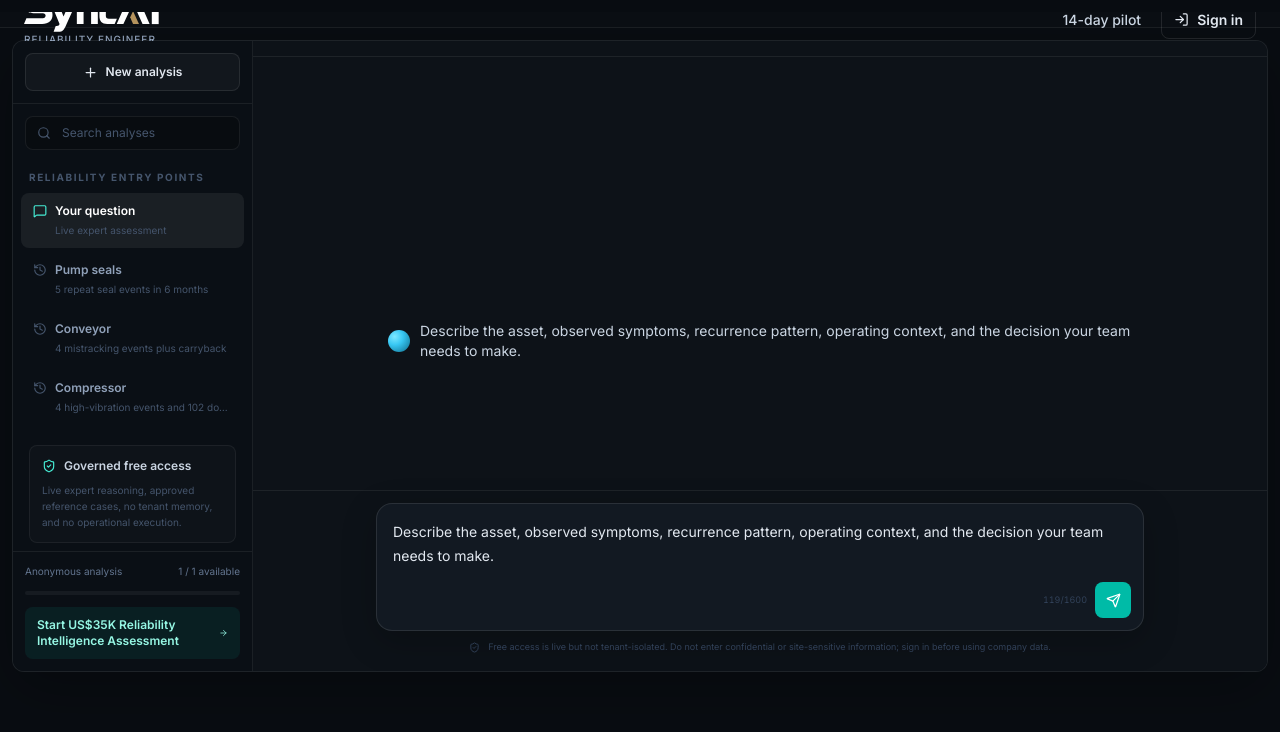
it: ReliabilityEngineerPage › streams the governed analysis and records the completed public run
Click the button named "send message": click(1113, 600) [1095,582,1131,618]
Wait 3500 ms
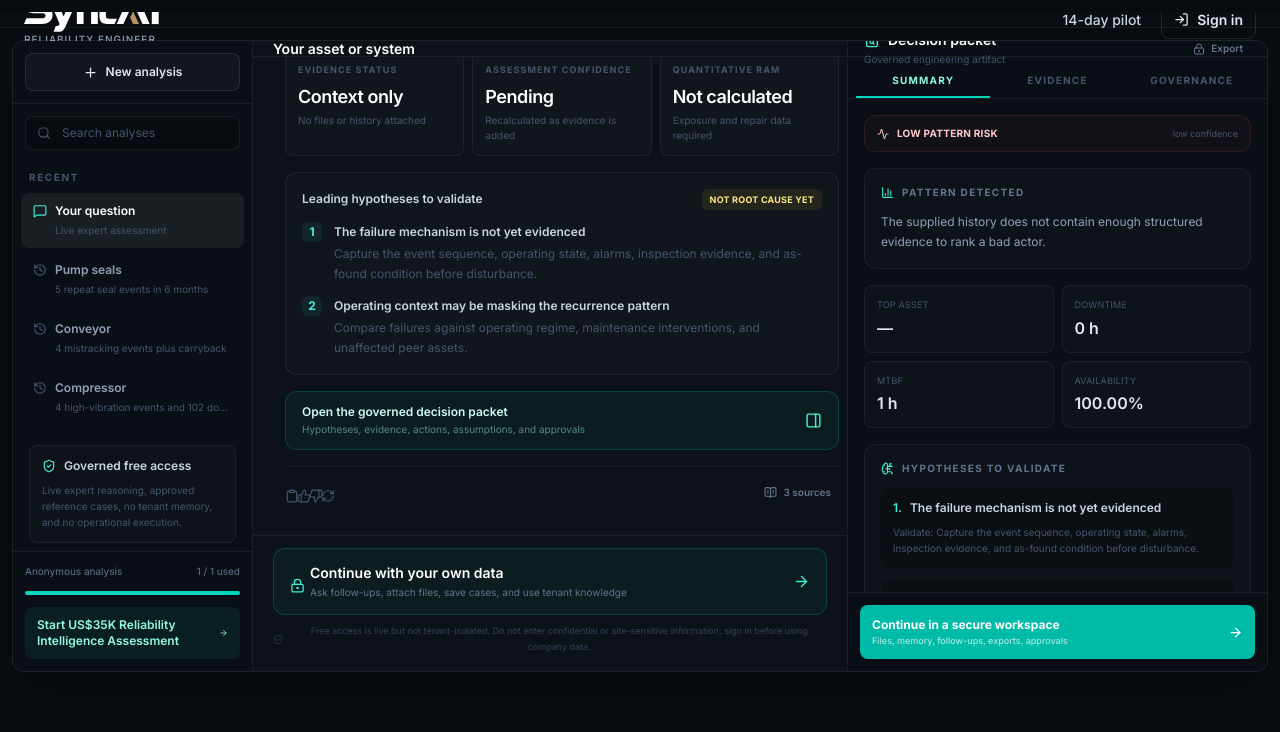
Now the button "Continue with your own data" is shown, box [273,548,827,615]
